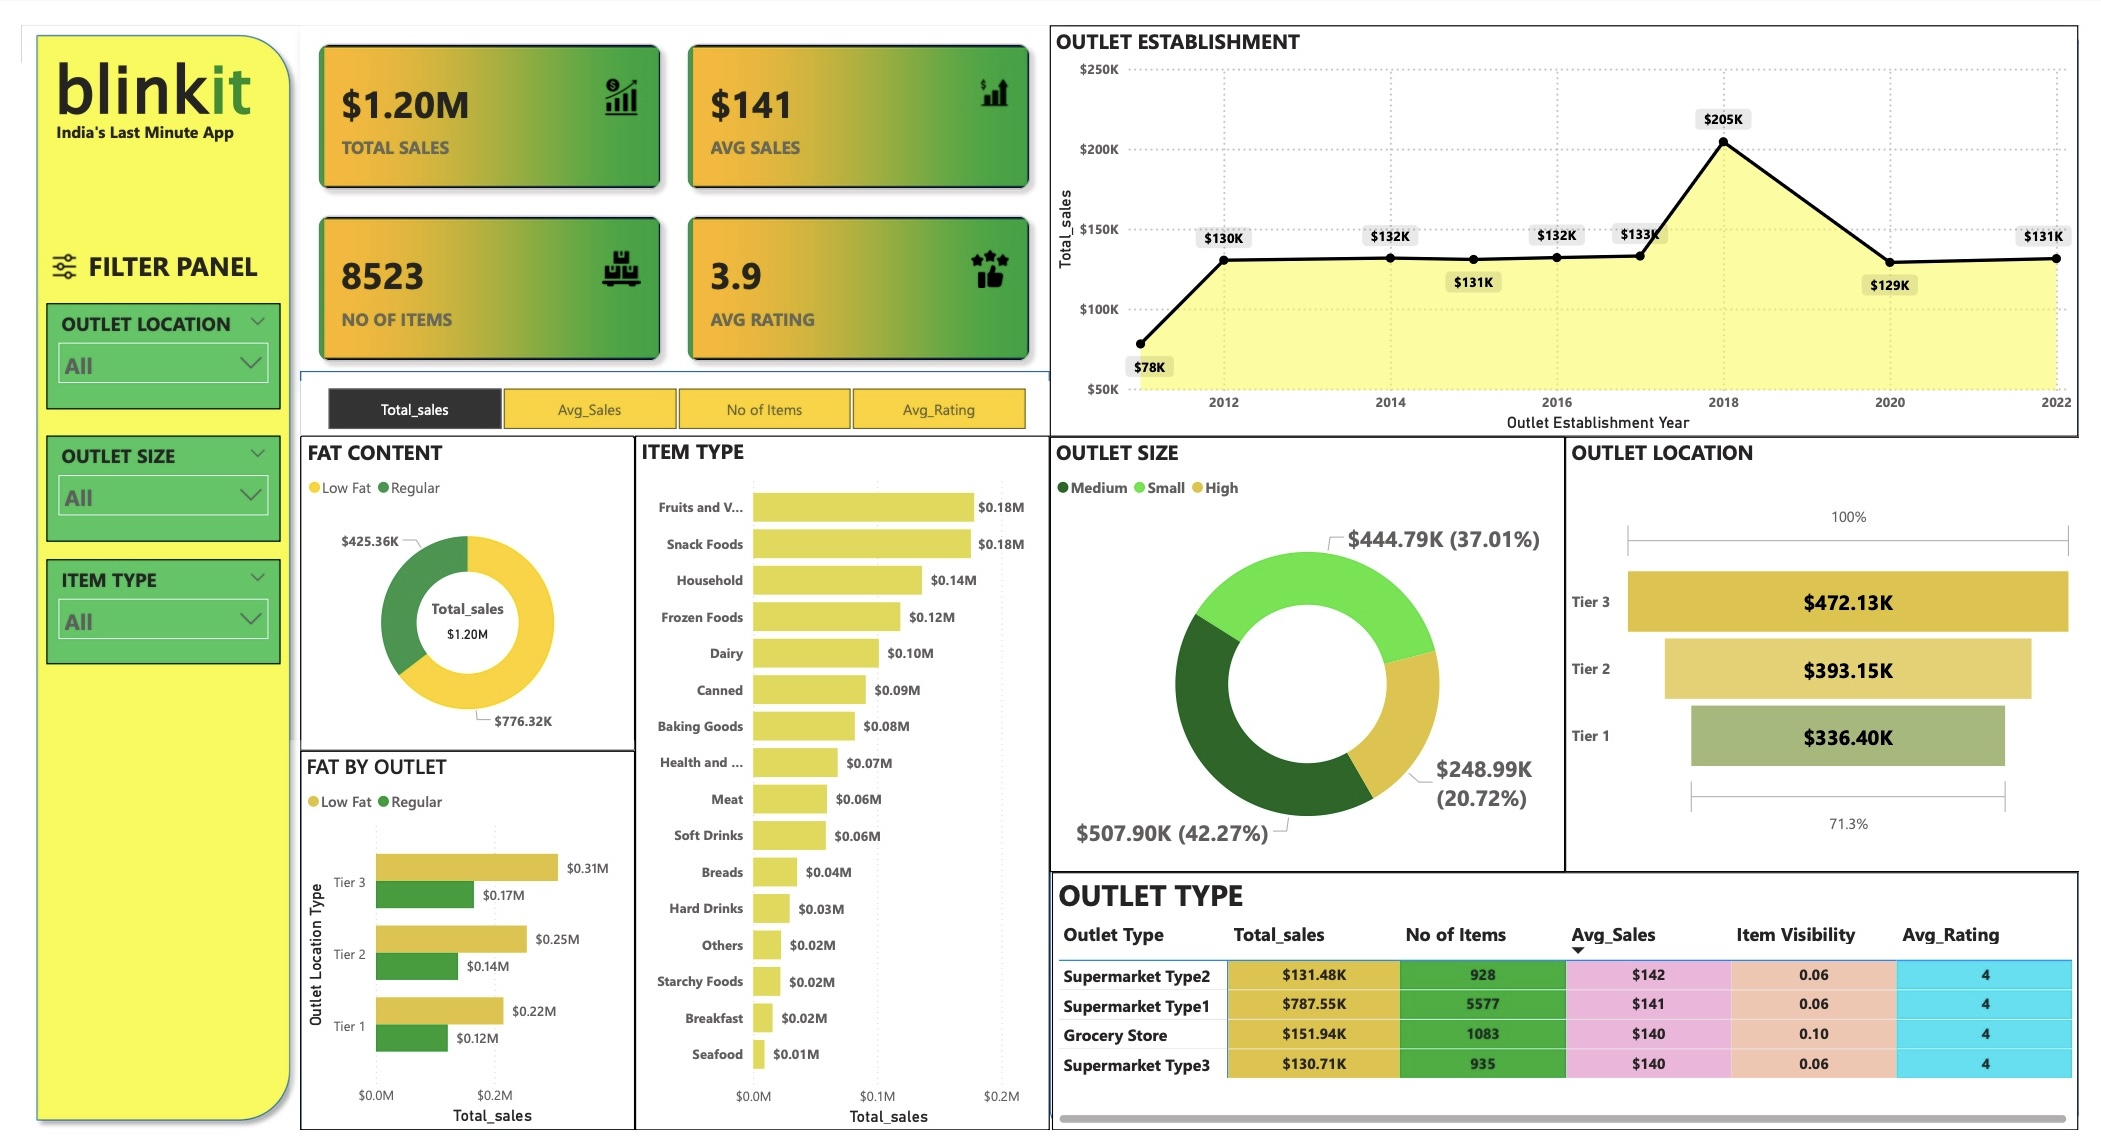

The dashboard page shown, as its layout file describes it:
{"tool":"powerbi","page":{"name":"Page 1","canvas":[1880,1010],"ordinal":0},"visuals":[{"type":"shape","box":[4,0,249.9,1009.7],"z":0},{"type":"textbox","box":[21.2,10.6,196.6,142.2],"z":1000},{"type":"textbox","box":[21.2,81.7,183,52.9],"z":2000},{"type":"cardVisual","fields":{"Data":["BlinkIT Grocery Data.Total_sales","BlinkIT Grocery Data.Avg_Sales","BlinkIT Grocery Data.No of Items","BlinkIT Grocery Data.Avg_Rating"]},"box":[253.5,0,685,324.7],"z":3000},{"type":"shape","box":[253.9,316.4,685.3,693.3],"z":4000},{"type":"slicer","fields":{"Values":["Matrics 2.Matrics"]},"box":[253.5,324.7,687.2,51.2],"z":5000},{"type":"donutChart","title":"FAT CONTENT","fields":{"Y":["BlinkIT Grocery Data.Total_sales"],"Category":["BlinkIT Grocery Data.Item Fat Content"]},"box":[253.9,374.9,306.3,288.2],"z":6000},{"type":"cardVisual","fields":{"Data":["BlinkIT Grocery Data.Total_sales"]},"box":[354.7,505.9,104.8,60.5],"z":7000},{"type":"clusteredBarChart","title":"FAT BY OUTLET","fields":{"Y":["BlinkIT Grocery Data.Total_sales"],"Category":["BlinkIT Grocery Data.Outlet Location Type"],"Series":["BlinkIT Grocery Data.Item Fat Content"]},"box":[253.9,663.1,306.3,346.7],"z":8000},{"type":"barChart","title":"ITEM TYPE","fields":{"Y":["BlinkIT Grocery Data.Total_sales"],"Category":["BlinkIT Grocery Data.Item Type"]},"box":[560.3,374.9,378.9,634.9],"z":9000},{"type":"shape","box":[939.2,0,941.2,1009.7],"z":10000},{"type":"lineChart","title":"OUTLET ESTABLISHMENT","fields":{"Category":["BlinkIT Grocery Data.Outlet Establishment Year"],"Y":["BlinkIT Grocery Data.Total_sales"]},"box":[938.5,0,940.7,375.9],"z":11000},{"type":"donutChart","title":"OUTLET SIZE","fields":{"Category":["BlinkIT Grocery Data.Outlet Size"],"Y":["BlinkIT Grocery Data.Total_sales"]},"box":[938.5,375.9,471.5,398.1],"z":12000},{"type":"pivotTable","title":"OUTLET TYPE","fields":{"Rows":["BlinkIT Grocery Data.Outlet Type"],"Values":["BlinkIT Grocery Data.Total_sales","BlinkIT Grocery Data.No of Items","BlinkIT Grocery Data.Avg_Sales","Avg(BlinkIT Grocery Data.Item Visibility)","BlinkIT Grocery Data.Avg_Rating"]},"box":[940.7,773.9,938.5,235.7],"z":13000},{"type":"funnel","title":"OUTLET LOCATION","fields":{"Category":["BlinkIT Grocery Data.Outlet Location Type"],"Y":["BlinkIT Grocery Data.Total_sales"]},"box":[1410,375.9,471.5,398.1],"z":14000},{"type":"slicer","title":"OUTLET LOCATION","fields":{"Values":["BlinkIT Grocery Data.Outlet Location Type"]},"box":[22.2,253.9,213.6,96.7],"z":15000},{"type":"slicer","title":"OUTLET LOCATION","fields":{"Values":["BlinkIT Grocery Data.Outlet Size"]},"box":[22.2,374.9,213.6,96.7],"z":16000},{"type":"slicer","title":"OUTLET LOCATION","fields":{"Values":["BlinkIT Grocery Data.Item Type"]},"box":[22.2,487.7,213.6,96.7],"z":17000},{"type":"textbox","box":[40,197.9,195.7,42.3],"z":18000},{"type":"image","box":[13.5,201.4,49.1,38.9],"z":19000}]}

Visuals, with their boxes in screenshot pixels (x1, y1, x2, y2), scaled from the page's 1880x1010 canvas onto the 2101x1146 screenshot:
shape: pyautogui.locateOnScreen(4, 0, 284, 1145)
textbox: pyautogui.locateOnScreen(24, 12, 243, 173)
textbox: pyautogui.locateOnScreen(24, 93, 228, 153)
cardVisual - BlinkIT Grocery Data.Total_sales x BlinkIT Grocery Data.Avg_Sales: pyautogui.locateOnScreen(283, 0, 1049, 368)
shape: pyautogui.locateOnScreen(284, 359, 1050, 1145)
slicer - Matrics 2.Matrics: pyautogui.locateOnScreen(283, 368, 1051, 427)
"FAT CONTENT" donutChart: pyautogui.locateOnScreen(284, 425, 626, 752)
cardVisual - BlinkIT Grocery Data.Total_sales: pyautogui.locateOnScreen(396, 574, 514, 643)
"FAT BY OUTLET" clusteredBarChart: pyautogui.locateOnScreen(284, 752, 626, 1145)
"ITEM TYPE" barChart: pyautogui.locateOnScreen(626, 425, 1050, 1145)
shape: pyautogui.locateOnScreen(1050, 0, 2100, 1145)
"OUTLET ESTABLISHMENT" lineChart: pyautogui.locateOnScreen(1049, 0, 2100, 427)
"OUTLET SIZE" donutChart: pyautogui.locateOnScreen(1049, 427, 1576, 878)
"OUTLET TYPE" pivotTable: pyautogui.locateOnScreen(1051, 878, 2100, 1145)
"OUTLET LOCATION" funnel: pyautogui.locateOnScreen(1576, 427, 2100, 878)
"OUTLET LOCATION" slicer: pyautogui.locateOnScreen(25, 288, 264, 398)
"OUTLET LOCATION" slicer: pyautogui.locateOnScreen(25, 425, 264, 535)
"OUTLET LOCATION" slicer: pyautogui.locateOnScreen(25, 553, 264, 663)
textbox: pyautogui.locateOnScreen(45, 225, 263, 273)
image: pyautogui.locateOnScreen(15, 229, 70, 273)
